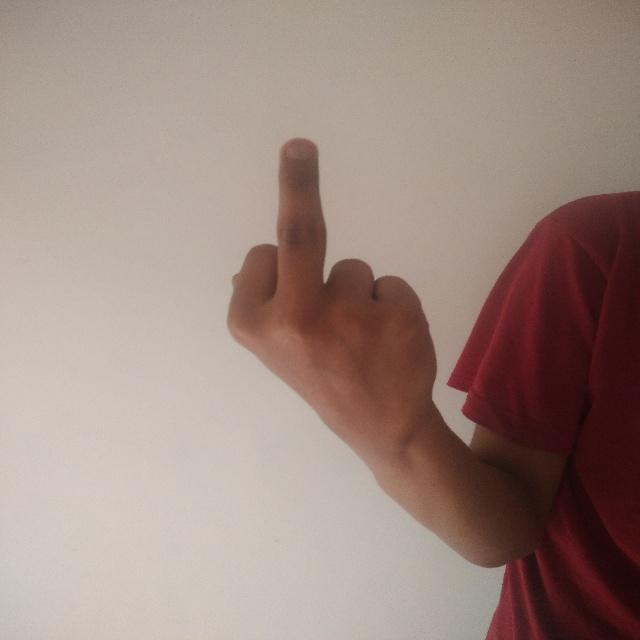Middle Finger: (227, 128, 460, 451)
